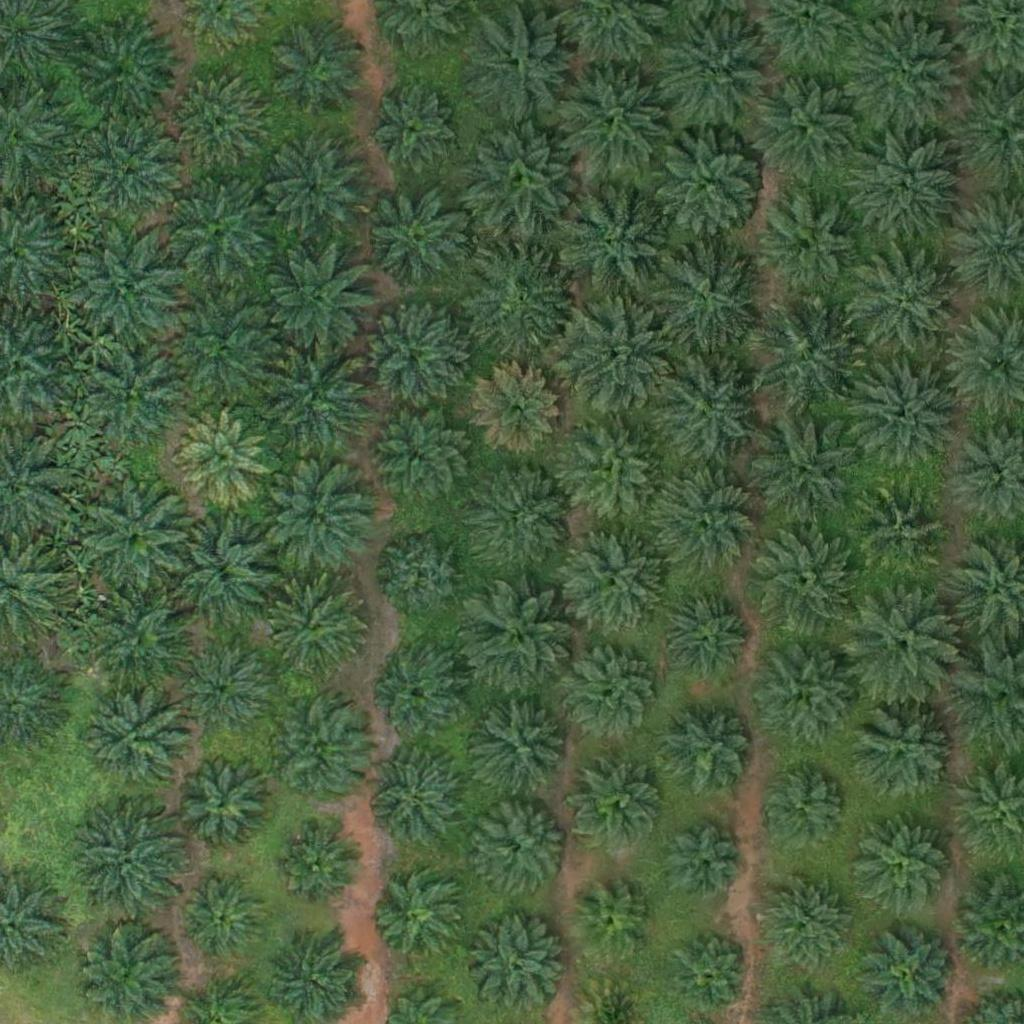Kelapa_Sawit: (67, 12, 180, 126), (72, 117, 185, 231), (164, 171, 277, 285), (170, 297, 283, 411), (262, 242, 375, 356), (850, 19, 963, 133), (259, 465, 372, 579), (465, 9, 578, 122), (465, 123, 578, 236), (555, 64, 668, 177), (557, 190, 670, 303), (560, 300, 673, 413), (846, 132, 959, 245), (853, 250, 966, 363), (652, 353, 765, 466), (74, 805, 187, 918), (260, 340, 373, 453), (75, 230, 187, 344), (83, 480, 195, 594), (168, 514, 280, 628), (466, 245, 578, 358), (659, 14, 771, 127), (653, 126, 765, 239), (648, 239, 760, 352), (752, 69, 864, 182), (749, 299, 861, 412), (847, 586, 959, 699), (746, 525, 858, 638), (846, 353, 958, 466), (750, 412, 862, 525), (468, 588, 580, 701), (270, 15, 370, 116), (265, 140, 365, 241), (364, 188, 464, 289), (761, 192, 861, 293), (854, 701, 954, 802), (853, 817, 953, 918), (757, 645, 857, 746), (654, 467, 754, 568), (565, 418, 665, 519), (89, 593, 189, 694), (91, 696, 191, 797), (372, 404, 472, 505), (474, 464, 574, 565), (80, 918, 180, 1019), (364, 304, 464, 404), (564, 530, 664, 630), (562, 641, 662, 741), (78, 344, 178, 444), (266, 580, 366, 680), (270, 712, 370, 812), (472, 798, 572, 898), (468, 916, 568, 1016), (857, 487, 945, 576), (368, 84, 456, 172), (575, 761, 663, 849), (472, 365, 560, 453), (175, 644, 263, 732), (177, 761, 265, 849), (478, 701, 566, 789), (279, 822, 367, 910), (180, 873, 268, 961), (177, 73, 264, 161), (866, 930, 953, 1018), (760, 761, 847, 849), (762, 873, 849, 961), (659, 591, 746, 679), (665, 710, 752, 798), (179, 410, 266, 498), (380, 532, 467, 620), (381, 650, 468, 738), (372, 756, 459, 844), (378, 875, 465, 963), (575, 886, 650, 962), (665, 825, 740, 901), (672, 934, 747, 1010)
